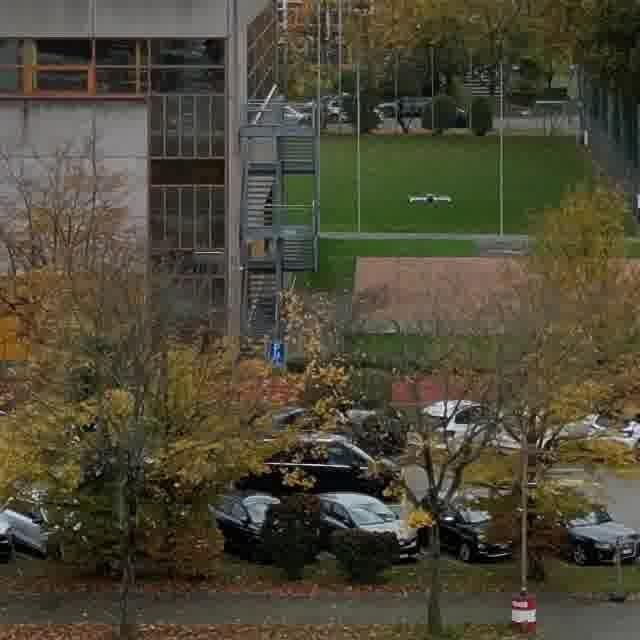Drohne: (408, 194, 451, 203)
